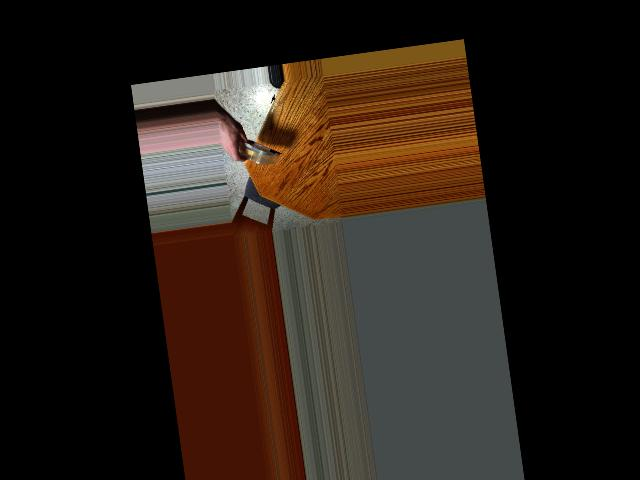cheese: (235, 136, 281, 169)
